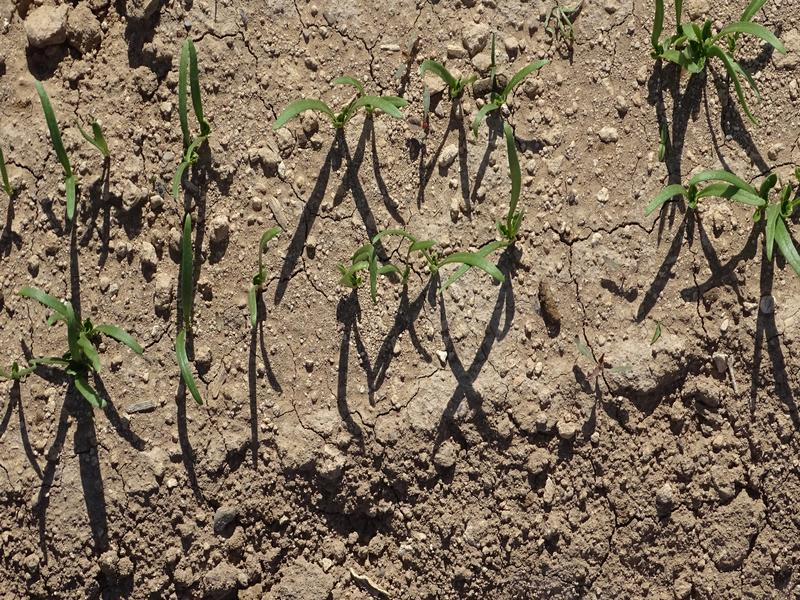Espinaca: (16, 241, 150, 411), (350, 206, 514, 306), (653, 160, 799, 265), (665, 2, 776, 92), (291, 73, 410, 134), (167, 41, 217, 186), (416, 58, 535, 116), (33, 82, 79, 220), (173, 215, 204, 397), (245, 225, 283, 328), (78, 127, 116, 168)
